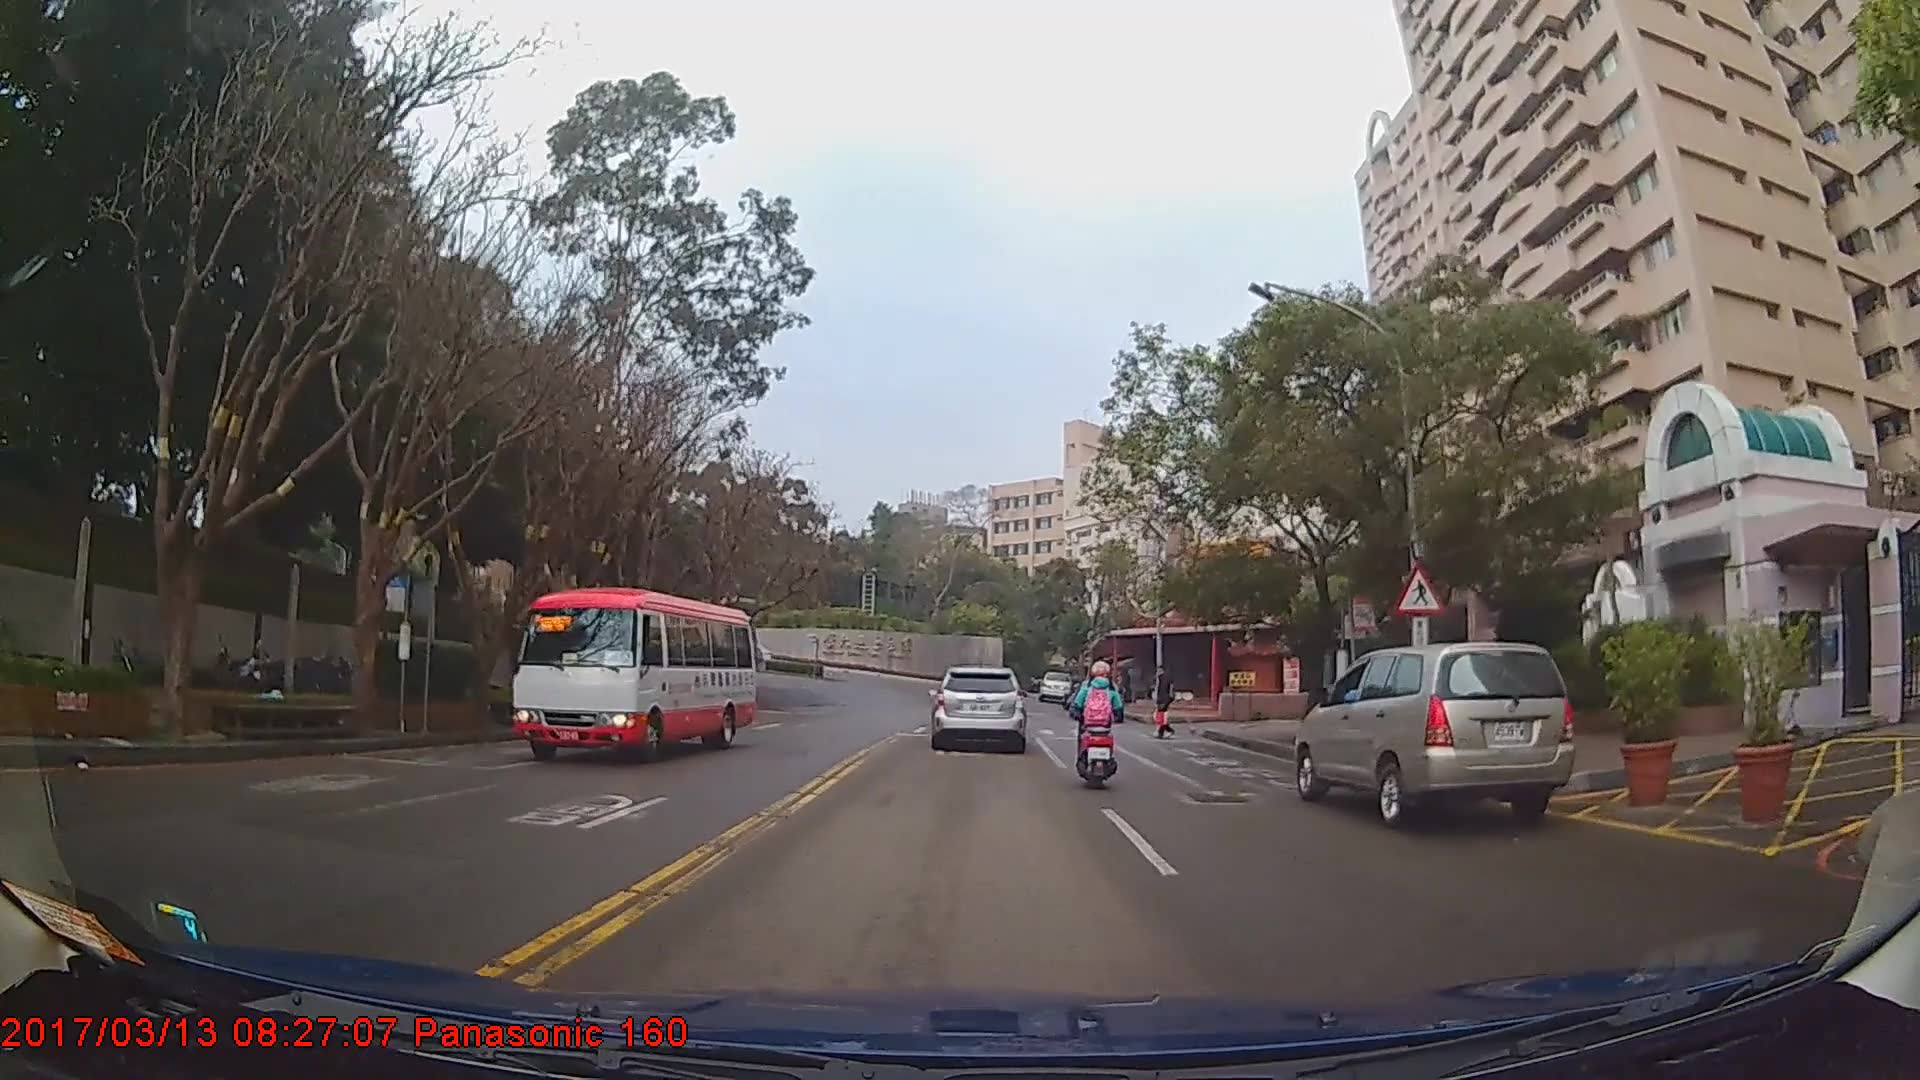pedestrian: (1152, 668, 1179, 746)
rider: (1069, 664, 1125, 794)
vehicle: (1294, 641, 1576, 828), (504, 588, 753, 764), (926, 667, 1027, 755), (1038, 672, 1073, 702)
